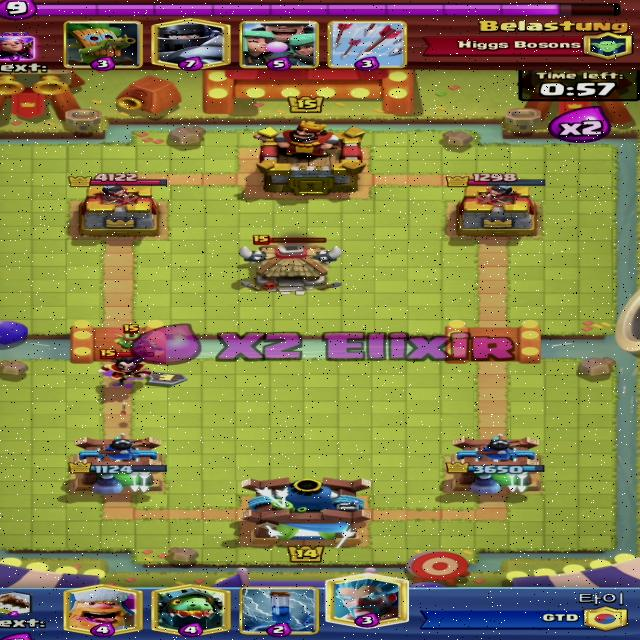Enemy-ElectroWizard: (96, 348, 154, 386)
Enemy-GoblinHut: (237, 234, 343, 296)
Enemy-SpearGoblin: (110, 323, 159, 356)
